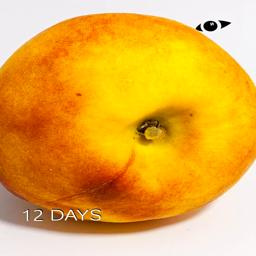Peach Semifresh: (1, 10, 256, 229)
